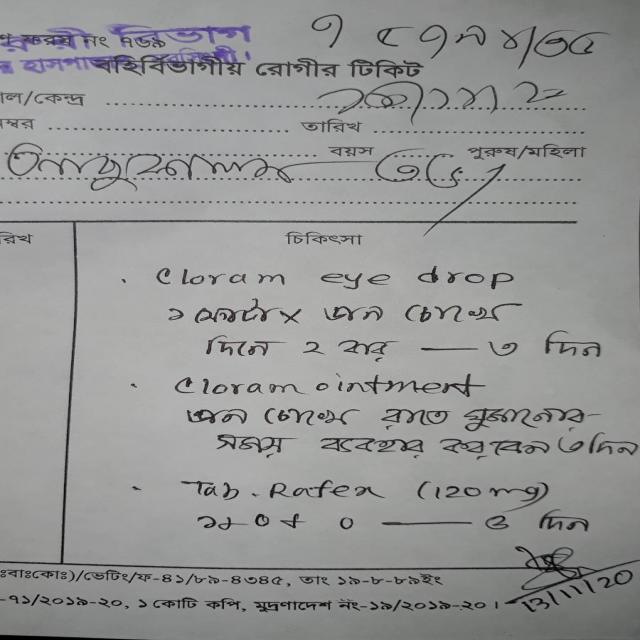Cloram: (144, 262, 296, 294)
CloramOintment: (166, 373, 492, 403)
Rafex: (258, 476, 394, 505)
